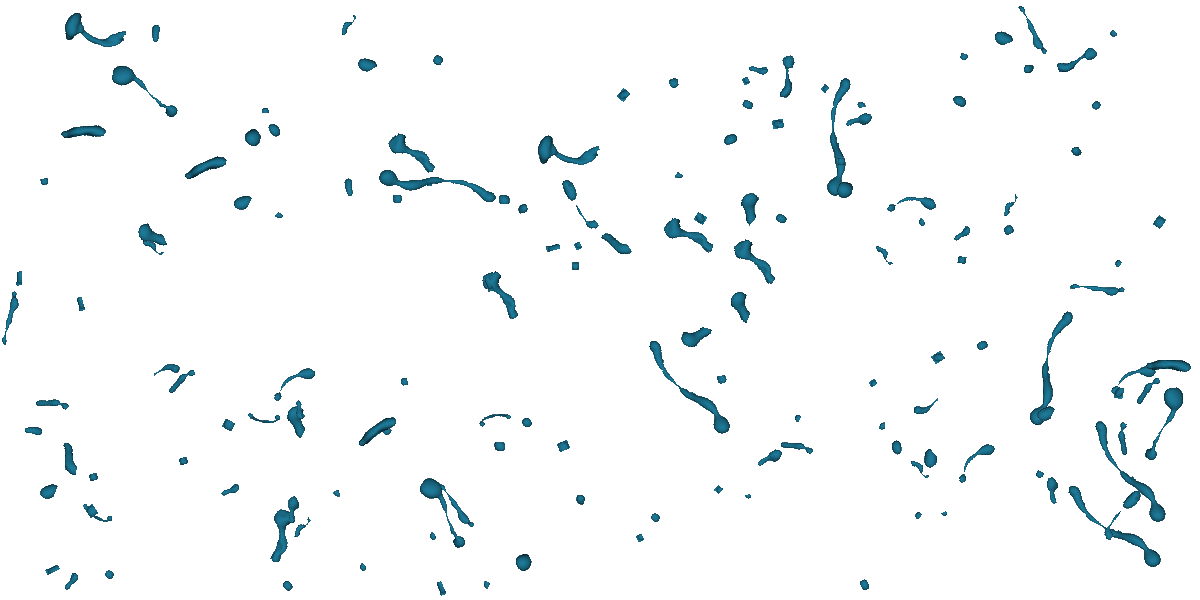Detached ligament: (1074, 417, 1185, 530), (630, 336, 748, 442), (1053, 481, 1176, 575), (402, 473, 489, 553), (1025, 308, 1076, 431), (814, 77, 863, 200), (528, 117, 604, 183), (376, 166, 496, 205), (1135, 386, 1194, 464), (108, 63, 185, 119), (57, 1, 129, 59), (472, 265, 530, 323), (725, 234, 785, 288), (1104, 354, 1158, 411), (267, 358, 318, 416), (381, 129, 442, 177), (880, 183, 938, 231), (430, 480, 480, 532), (1098, 487, 1144, 543), (953, 437, 997, 495), (558, 177, 601, 235), (658, 215, 718, 256), (1010, 2, 1053, 58), (1144, 342, 1193, 390), (59, 109, 108, 156), (1053, 37, 1099, 84), (183, 148, 228, 188), (31, 384, 71, 424), (1104, 420, 1143, 460), (776, 427, 815, 467), (770, 54, 803, 101), (268, 507, 295, 562), (730, 188, 768, 227), (278, 402, 314, 440), (357, 415, 397, 448), (600, 226, 634, 264), (723, 288, 757, 325), (134, 218, 168, 255), (0, 289, 21, 348), (678, 321, 714, 354), (77, 501, 115, 529), (842, 104, 874, 137), (1130, 376, 1164, 407), (1037, 475, 1068, 508), (754, 442, 784, 475), (278, 494, 307, 527), (57, 442, 82, 478), (1068, 282, 1126, 297), (165, 368, 196, 396), (476, 407, 514, 428), (997, 193, 1023, 218), (911, 395, 940, 417), (245, 411, 282, 428), (336, 174, 361, 199), (22, 418, 47, 443), (143, 20, 168, 45), (141, 234, 165, 260), (335, 13, 361, 37), (288, 516, 315, 539), (909, 455, 931, 482), (153, 361, 181, 381), (219, 479, 242, 502), (875, 241, 894, 268), (289, 398, 310, 422), (952, 222, 973, 246), (63, 570, 80, 593), (747, 62, 770, 78), (482, 276, 495, 293), (44, 563, 61, 576), (435, 580, 447, 597), (75, 296, 86, 312), (545, 242, 561, 253), (15, 271, 23, 286)
drop: (240, 126, 265, 151), (917, 447, 941, 471), (511, 551, 535, 575), (355, 52, 379, 75), (992, 26, 1015, 48), (37, 479, 59, 502), (1034, 401, 1056, 424), (231, 190, 253, 213), (834, 180, 854, 200), (951, 92, 969, 111), (889, 438, 905, 456), (267, 122, 282, 139), (84, 503, 99, 519), (1152, 214, 1167, 230), (616, 87, 631, 103), (930, 350, 946, 365), (430, 53, 445, 69), (693, 211, 708, 226), (519, 415, 534, 430), (1069, 145, 1084, 160), (280, 578, 295, 593), (556, 439, 571, 453), (221, 418, 236, 432), (723, 133, 739, 146), (740, 98, 755, 111), (858, 577, 871, 592), (1002, 223, 1016, 236), (515, 202, 529, 215), (774, 212, 788, 225), (975, 339, 989, 352), (380, 424, 393, 437), (1090, 99, 1103, 112), (103, 568, 116, 581), (649, 511, 662, 524), (1113, 386, 1125, 400), (771, 118, 785, 130), (668, 77, 680, 91), (574, 494, 586, 507), (1033, 469, 1045, 481), (493, 441, 506, 452), (498, 194, 511, 205), (1023, 64, 1036, 75), (716, 374, 728, 385), (1112, 258, 1123, 269), (1108, 29, 1119, 40), (912, 510, 923, 521), (427, 531, 438, 542), (357, 562, 368, 573), (916, 217, 927, 228), (39, 177, 50, 188), (958, 52, 969, 63), (713, 484, 724, 495), (274, 211, 285, 222), (674, 171, 685, 182), (792, 413, 802, 424), (392, 194, 403, 204), (88, 472, 99, 482), (178, 456, 189, 466), (820, 83, 830, 94), (836, 156, 846, 167), (481, 580, 491, 591), (332, 489, 342, 500), (957, 255, 967, 265), (573, 241, 583, 251), (741, 76, 751, 86), (868, 378, 878, 388), (635, 533, 645, 543), (571, 261, 580, 271), (399, 377, 408, 386), (940, 510, 949, 519), (878, 421, 886, 431), (260, 106, 269, 114), (744, 493, 752, 501), (857, 101, 866, 108)
